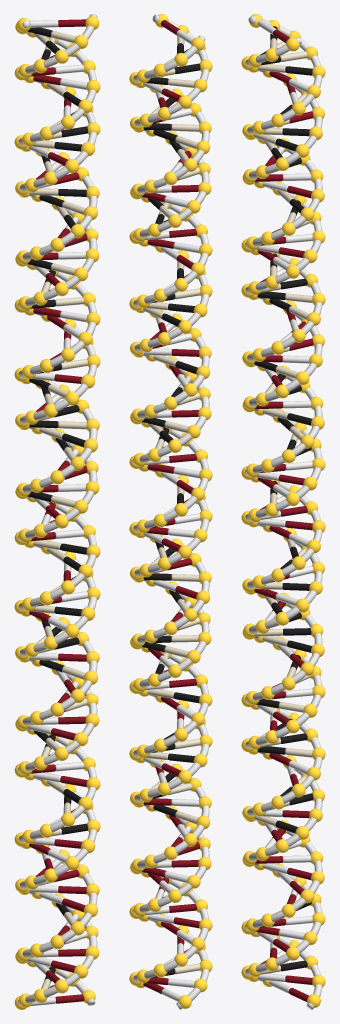
Rendered from dna-rail.glb.
3 views of the same model, side by side, from view 1: azimuth 30°, elevation 25°; view 2: azimuth 150°, elevation 25°; view 3: azimuth 330°, elevation 25° (orthographic). The views are drawn at different scales.
Visible parts, largest first — view 1: DNA_Rail; view 2: DNA_Rail; view 3: DNA_Rail.
Part boxes in pixels (left/top/right/bottom): DNA_Rail: left=14, top=14, right=100, bottom=1009; DNA_Rail: left=129, top=14, right=212, bottom=1009; DNA_Rail: left=241, top=14, right=325, bottom=1009.
Size of the model in its own units: 2.39 by 30.69 by 2.4.
